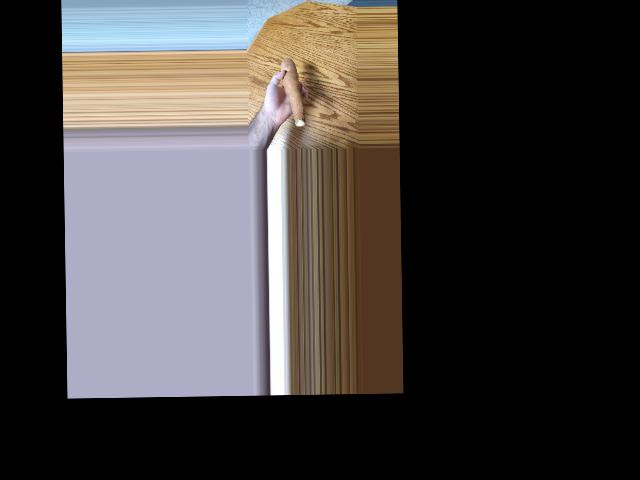sweet_potato: (284, 54, 304, 129)
